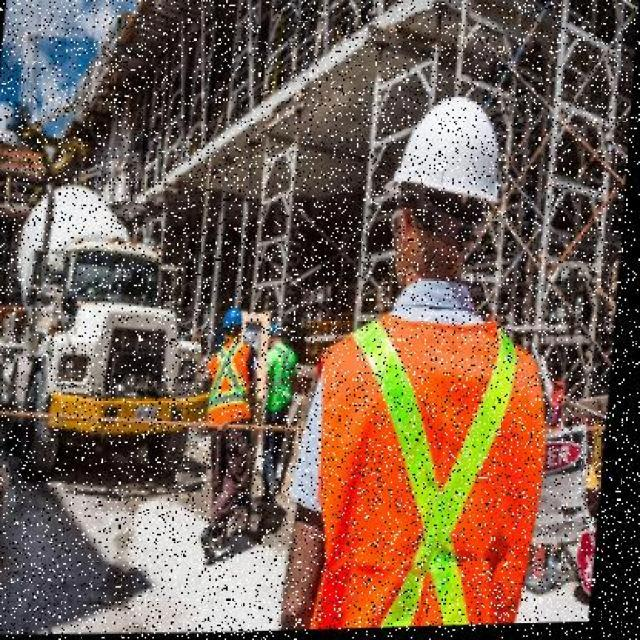helmet: (383, 91, 515, 219), (222, 308, 250, 348)
vest: (286, 297, 565, 631), (208, 336, 262, 428)
